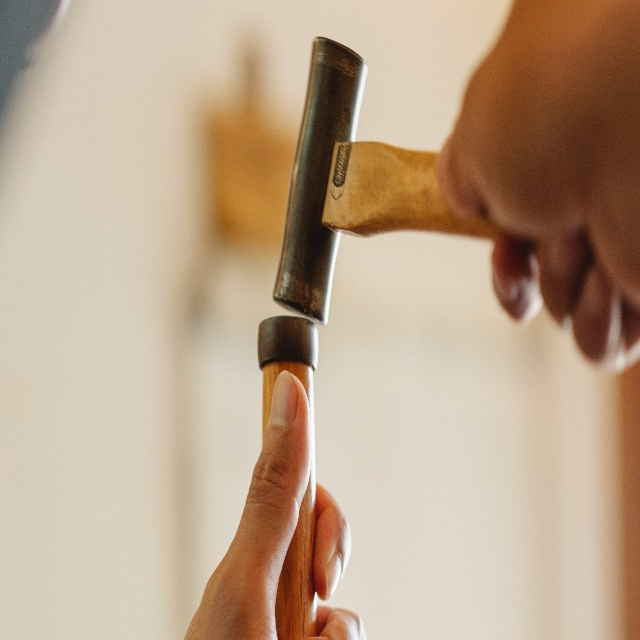Sin_guantes: (435, 0, 640, 374), (183, 372, 367, 640)
